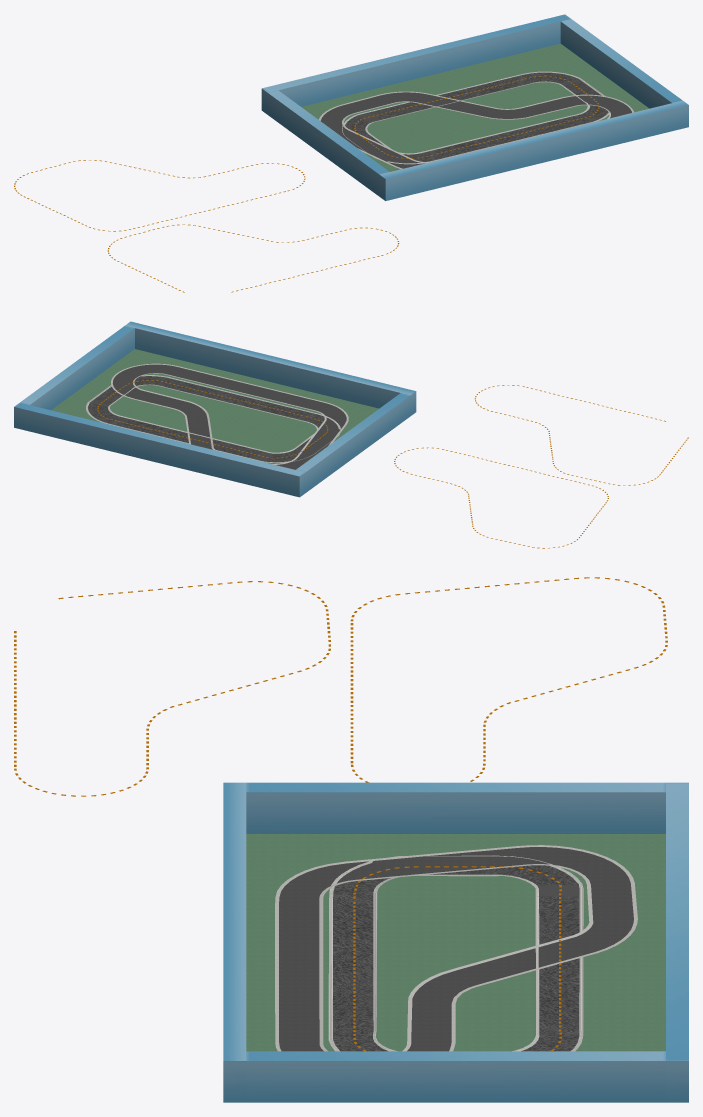
File: basic_speed_track.dae
The picture shows the model from 3 angles, top to bottom: view 1: azimuth 30°, elevation 25°; view 2: azimuth 150°, elevation 25°; view 3: azimuth 270°, elevation 25°; orthographic projection. The views are drawn at different scales.
Visible parts, largest first — view 1: field, bottomWall, topWall, Track1_002, Track1, leftWall, rightWall, whiteLines_001, whiteLines, dottedLine_001, dottedLine; view 2: field, topWall, bottomWall, Track1, Track1_002, leftWall, rightWall, whiteLines_001, whiteLines, dottedLine_001, dottedLine; view 3: field, leftWall, rightWall, Track1, Track1_002, bottomWall, topWall, whiteLines, whiteLines_001, dottedLine_001, dottedLine.
Part boxes in pixels (bbox=[...]): field: bbox=[301, 43, 648, 171]; bottomWall: bbox=[379, 100, 688, 200]; topWall: bbox=[261, 14, 570, 114]; Track1_002: bbox=[345, 72, 608, 162]; Track1: bbox=[320, 92, 631, 168]; leftWall: bbox=[267, 90, 389, 196]; rightWall: bbox=[560, 19, 682, 108]; whiteLines_001: bbox=[342, 71, 609, 164]; whiteLines: bbox=[319, 91, 633, 169]; dottedLine_001: bbox=[107, 75, 599, 292]; dottedLine: bbox=[14, 160, 305, 231]; field: bbox=[51, 349, 378, 463]; topWall: bbox=[14, 403, 305, 497]; bottomWall: bbox=[125, 321, 416, 415]; Track1: bbox=[112, 364, 346, 469]; Track1_002: bbox=[88, 376, 324, 462]; leftWall: bbox=[296, 393, 410, 492]; rightWall: bbox=[20, 325, 134, 409]; whiteLines_001: bbox=[86, 375, 340, 462]; whiteLines: bbox=[111, 363, 348, 464]; dottedLine_001: bbox=[97, 380, 688, 485]; dottedLine: bbox=[394, 447, 608, 548]; field: bbox=[246, 834, 665, 1051]; leftWall: bbox=[246, 782, 665, 833]; rightWall: bbox=[246, 1051, 665, 1102]; Track1: bbox=[279, 847, 633, 1051]; Track1_002: bbox=[333, 865, 579, 1051]; bottomWall: bbox=[223, 782, 246, 1102]; topWall: bbox=[666, 782, 688, 1102]; whiteLines: bbox=[275, 845, 637, 1051]; whiteLines_001: bbox=[328, 855, 583, 1051]; dottedLine_001: bbox=[14, 581, 561, 1051]; dottedLine: bbox=[350, 577, 667, 782].
Bounding box in the file's own units: 13.5 × 7.35 × 0.5.
5 materials, 5 textured.
